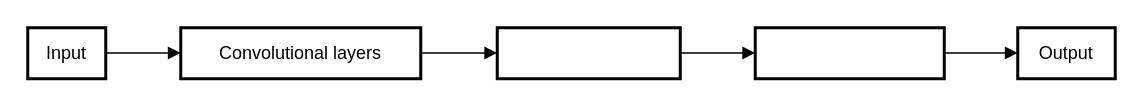
Some shapes in this 1142 by 105 pixel diagram are drawn without their labels. The box of each missing label's shape, as (x1, y1, x2, y2) in pixels:
Detection layer: (753, 26, 945, 80)
Residual layers: (495, 26, 681, 80)
